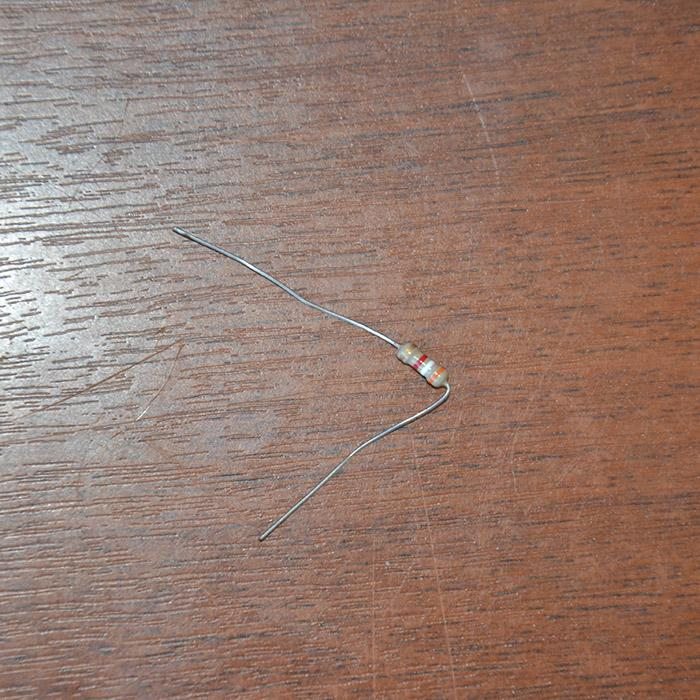resistor: (394, 339, 450, 389)
